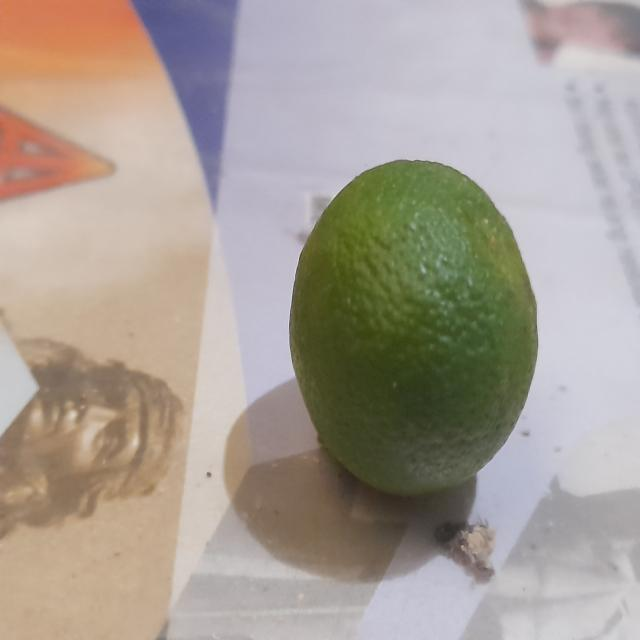heathy: (288, 156, 539, 499)
